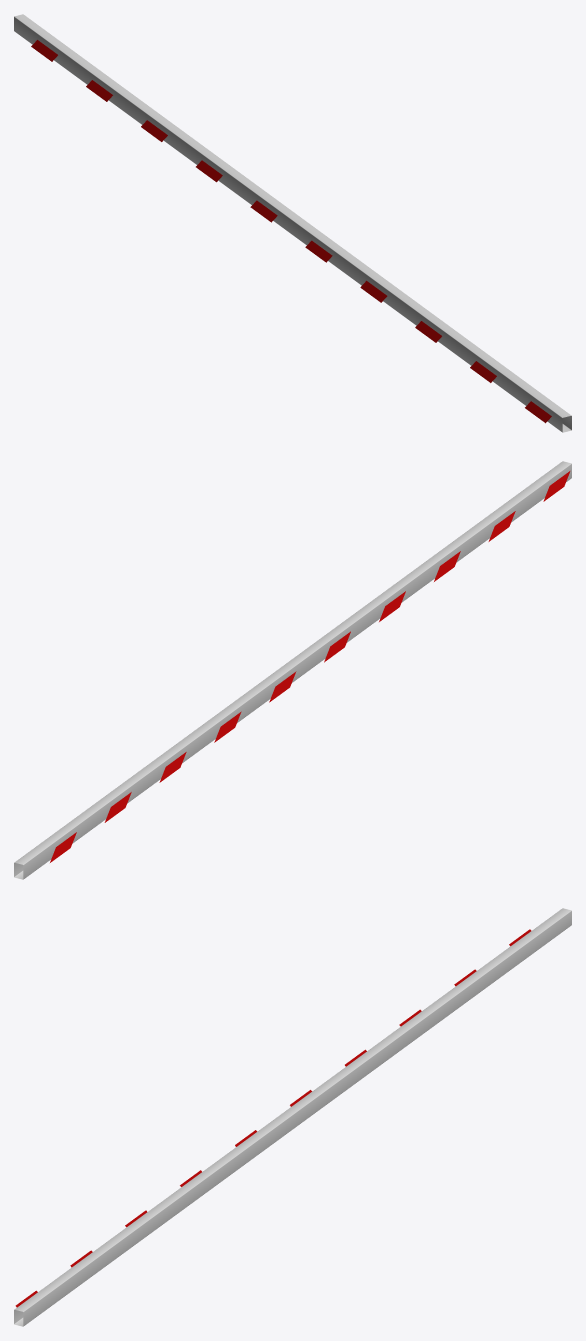
File: Barrier_6M.glb
The picture shows the model from 3 angles, top to bottom: view 1: azimuth 30°, elevation 25°; view 2: azimuth 150°, elevation 25°; view 3: azimuth 330°, elevation 25°; orthographic projection.
Visible parts, largest first — view 1: Beam, Safety stickers; view 2: Beam, Safety stickers; view 3: Beam, Safety stickers.
Part boxes in pixels (box(x1,y1,x2,y2)): Beam: box(14, 14, 571, 432); Safety stickers: box(31, 40, 551, 423); Beam: box(14, 461, 571, 879); Safety stickers: box(50, 471, 570, 862); Beam: box(14, 908, 571, 1326); Safety stickers: box(15, 929, 531, 1307).
Bounding box in the file's own units: 0.0887 × 0.09 × 6.
